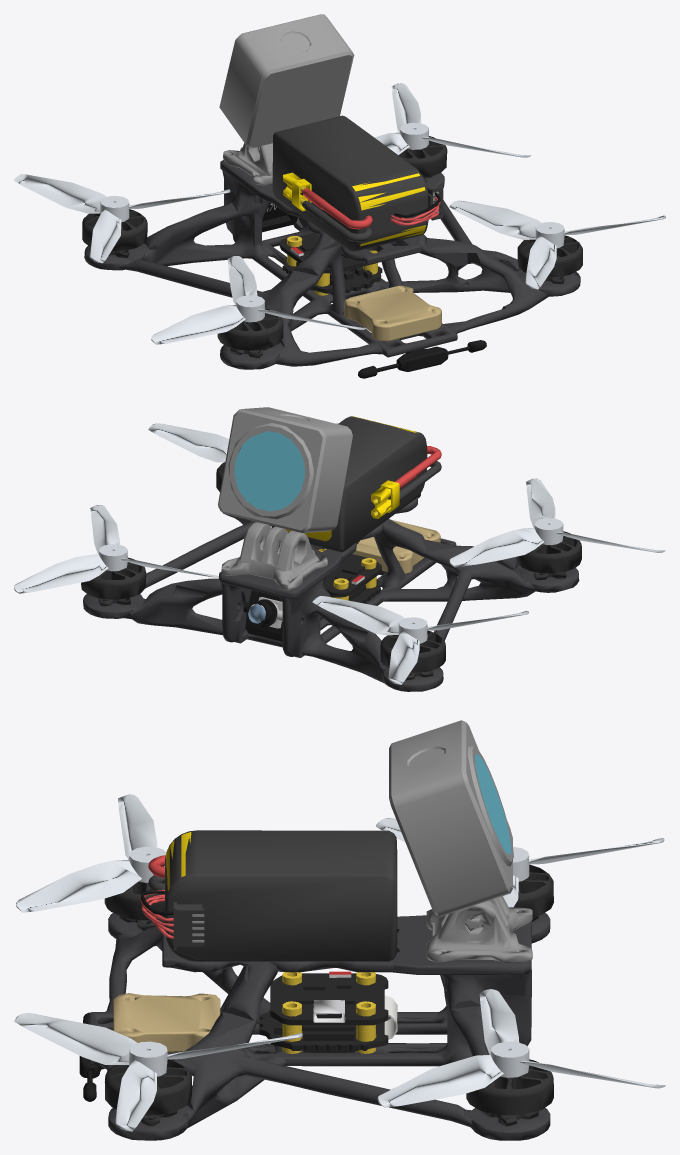
File: frame-v2.glb
3 views of the same model, one above another, from view 1: azimuth 30°, elevation 25°; view 2: azimuth 150°, elevation 25°; view 3: azimuth 270°, elevation 25° (orthographic). The views are drawn at different scales.
Visible parts, largest first — view 1: FRAME, BATTERY, ACTION_CAM, PROP_2, PROP_4, PROP_1, VTX, BATTERY_LEAD, PROP_3, MOTOR_1, RX_ANTENNA, MOTOR_2 (+5 smaller); view 2: FRAME, ACTION_CAM, BATTERY, ACTION_CAM_LENS, ACTION_MOUNT, PROP_2, PROP_1, PROP_3, MOTOR_3, MOTOR_1, BATTERY_LEAD, PROP_4 (+5 smaller); view 3: FRAME, BATTERY, ACTION_CAM, PROP_4, PROP_3, PROP_1, ACTION_MOUNT, FC, VTX, MOTOR_3, ESC, BATTERY_LEAD (+6 smaller).
Boxes of the visible parts, left/top/right/bottom form: FRAME: left=84, top=160, right=580, bottom=369; BATTERY: left=272, top=115, right=428, bottom=251; ACTION_CAM: left=219, top=14, right=354, bottom=147; PROP_2: left=14, top=174, right=230, bottom=263; PROP_4: left=449, top=200, right=665, bottom=289; PROP_1: left=151, top=256, right=366, bottom=344; VTX: left=344, top=285, right=441, bottom=340; BATTERY_LEAD: left=283, top=172, right=443, bottom=241; PROP_3: left=374, top=83, right=531, bottom=157; MOTOR_1: left=217, top=308, right=283, bottom=357; RX_ANTENNA: left=358, top=340, right=486, bottom=378; MOTOR_2: left=82, top=209, right=147, bottom=257; FRAME: left=83, top=493, right=579, bottom=691; ACTION_CAM: left=218, top=407, right=352, bottom=532; BATTERY: left=271, top=416, right=427, bottom=552; ACTION_CAM_LENS: left=234, top=431, right=304, bottom=511; ACTION_MOUNT: left=221, top=522, right=327, bottom=590; PROP_2: left=312, top=596, right=528, bottom=684; PROP_1: left=449, top=478, right=665, bottom=567; PROP_3: left=14, top=505, right=218, bottom=593; MOTOR_3: left=81, top=557, right=146, bottom=606; MOTOR_1: left=516, top=531, right=581, bottom=579; BATTERY_LEAD: left=337, top=423, right=441, bottom=518; PROP_4: left=148, top=423, right=229, bottom=462; FRAME: left=88, top=913, right=550, bottom=1140; BATTERY: left=165, top=830, right=397, bottom=961; ACTION_CAM: left=389, top=720, right=513, bottom=916; PROP_4: left=14, top=1013, right=302, bottom=1131; PROP_3: left=377, top=989, right=665, bottom=1107; PROP_1: left=16, top=794, right=166, bottom=912; ACTION_MOUNT: left=426, top=896, right=532, bottom=962; FC: left=270, top=971, right=388, bottom=1025; VTX: left=113, top=993, right=220, bottom=1052; MOTOR_3: left=466, top=1059, right=553, bottom=1126; ESC: left=259, top=995, right=397, bottom=1052; BATTERY_LEAD: left=140, top=855, right=204, bottom=950.
Size of the model in its own units: 0.214 by 0.0958 by 0.1767.
